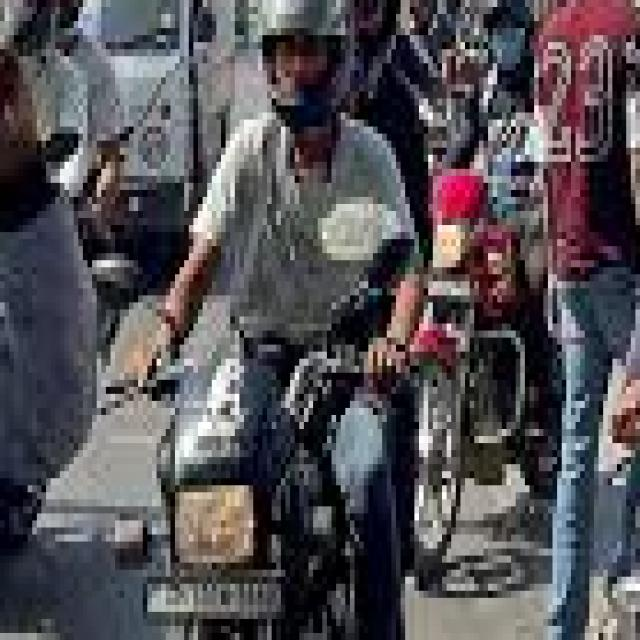bike: (106, 323, 387, 640), (414, 147, 548, 584), (608, 337, 640, 640)
